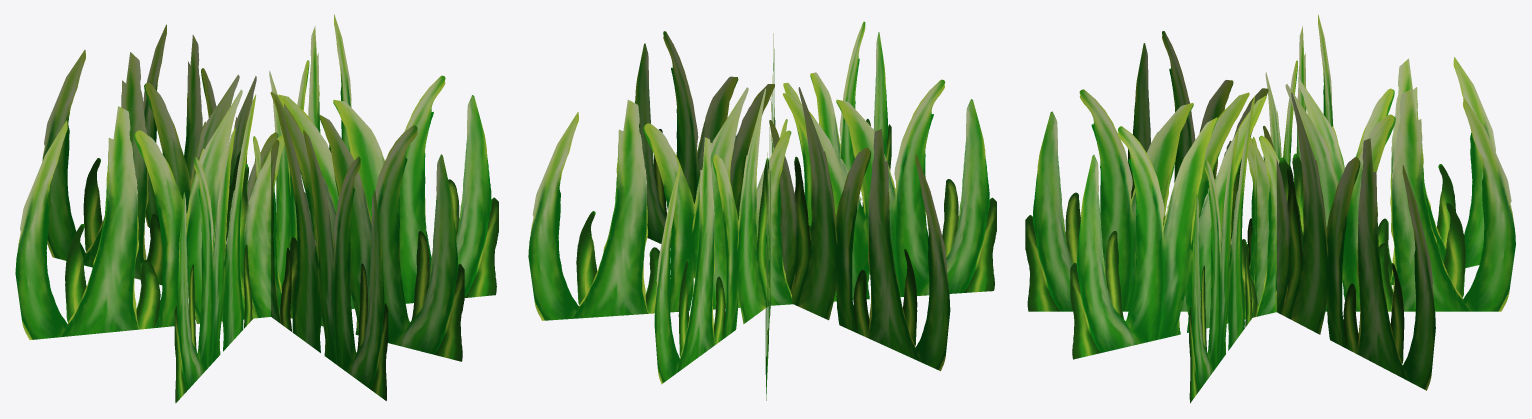
Rendered from grass.fbx.
The picture shows the model from 3 angles, left to right: view 1: azimuth 30°, elevation 25°; view 2: azimuth 150°, elevation 25°; view 3: azimuth 270°, elevation 25°; orthographic projection. The views are drawn at different scales.
Parts seen in each view (by area): view 1: b116302d-b35a-4898-bc3a-6c051291b833; view 2: b116302d-b35a-4898-bc3a-6c051291b833; view 3: b116302d-b35a-4898-bc3a-6c051291b833.
Boxes of the visible parts, bbox=[...] form: b116302d-b35a-4898-bc3a-6c051291b833: bbox=[15, 14, 498, 403]; b116302d-b35a-4898-bc3a-6c051291b833: bbox=[528, 21, 996, 400]; b116302d-b35a-4898-bc3a-6c051291b833: bbox=[1025, 14, 1515, 403].
Size of the model in its own units: 182 by 97.53 by 190.
